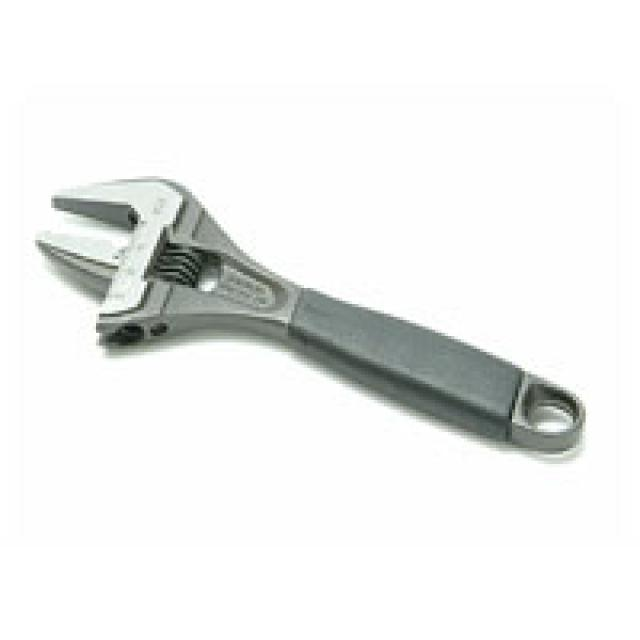wrench: (28, 149, 599, 493)
